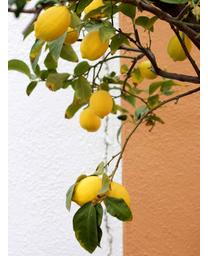lemon: (35, 8, 71, 39), (72, 177, 104, 204), (165, 31, 193, 61), (81, 32, 109, 61), (106, 179, 132, 207), (90, 90, 113, 116), (82, 108, 102, 131)
